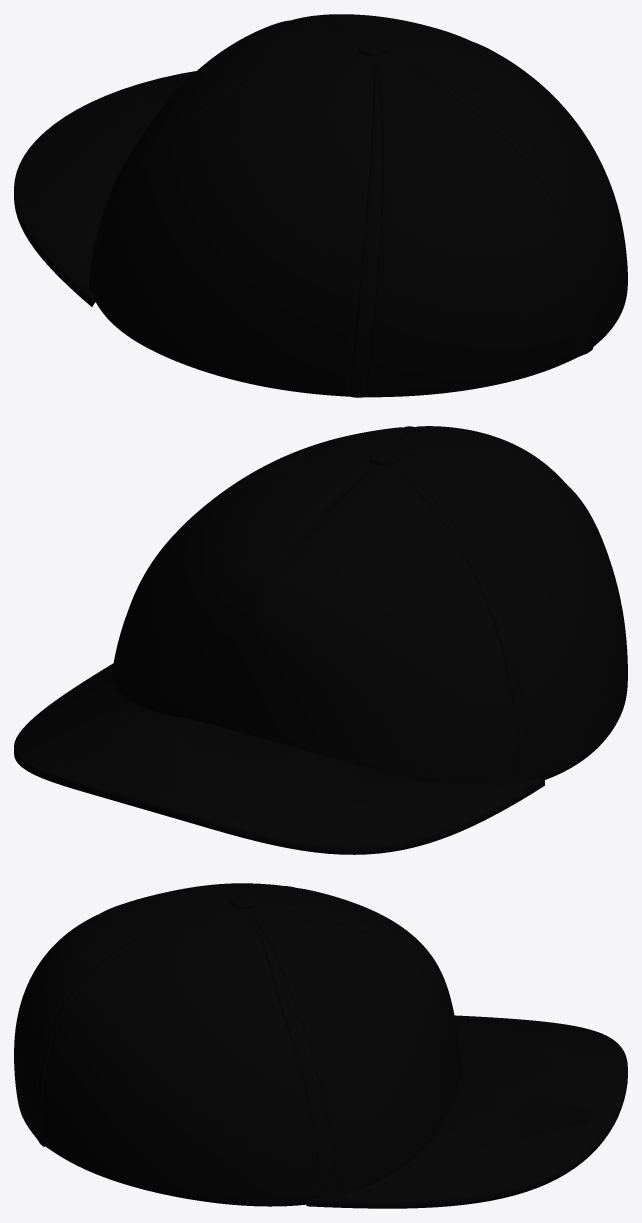
Rendered from blackcap.fbx.
3 renders of one model, top to bottom at view 1: azimuth 30°, elevation 25°; view 2: azimuth 150°, elevation 25°; view 3: azimuth 270°, elevation 25°, orthographic. The views are drawn at different scales.
Parts seen in each view (by area): view 1: node_id16; view 2: node_id16; view 3: node_id16.
Part boxes in pixels (x1,y1,x2,y2): node_id16: (14,14,627,397); node_id16: (14,426,627,854); node_id16: (14,883,627,1208).
Bounding box in the file's own units: 0.47 × 0.2395 × 0.6297.
1 material, 1 textured.
